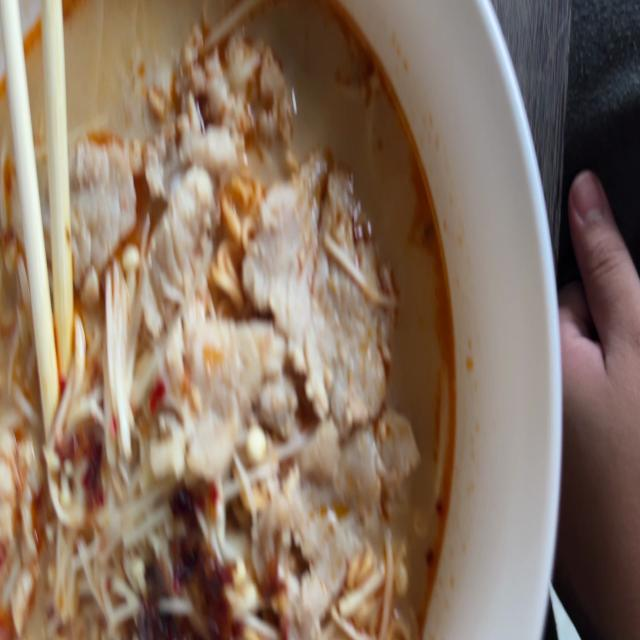noodle: (0, 0, 533, 640)
